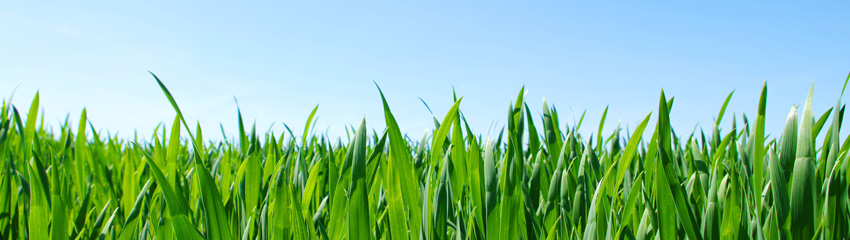crabgrass: (11, 111, 847, 240)
